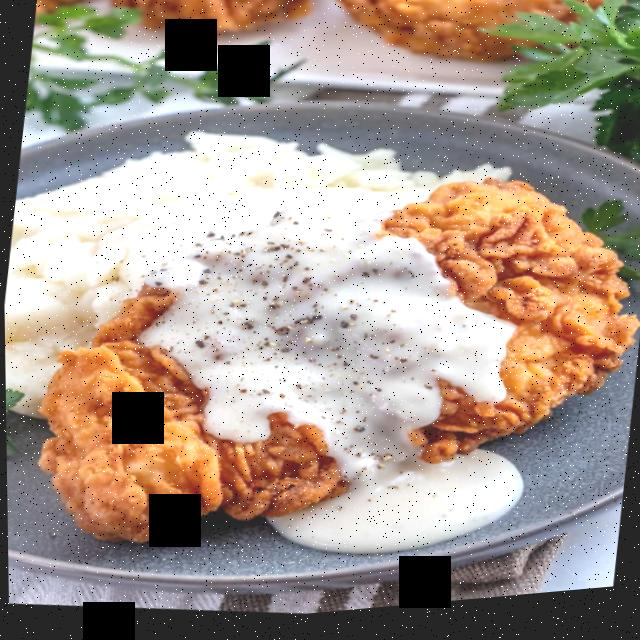Frango: (15, 121, 640, 616)
